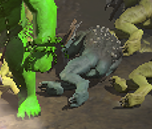{"type":"monster","name":"eldritch","status":"dead","facing":"away"}: (63, 18, 109, 110)
